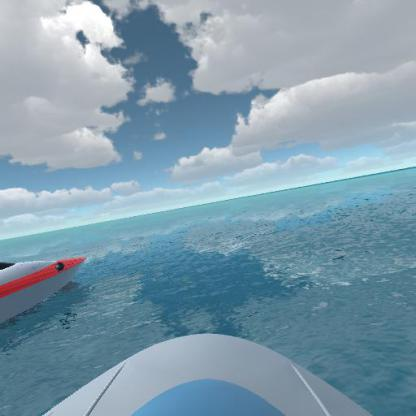usv3: (0, 252, 96, 326)
